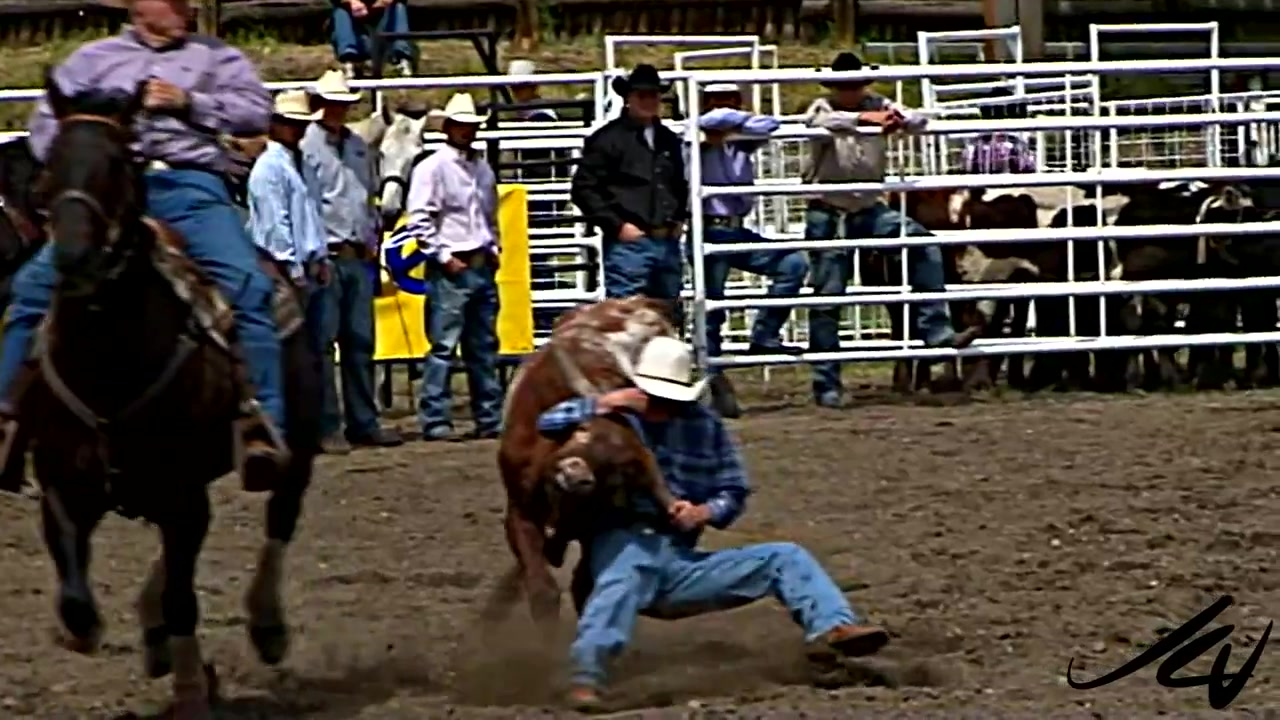horse: (17, 64, 325, 717)
